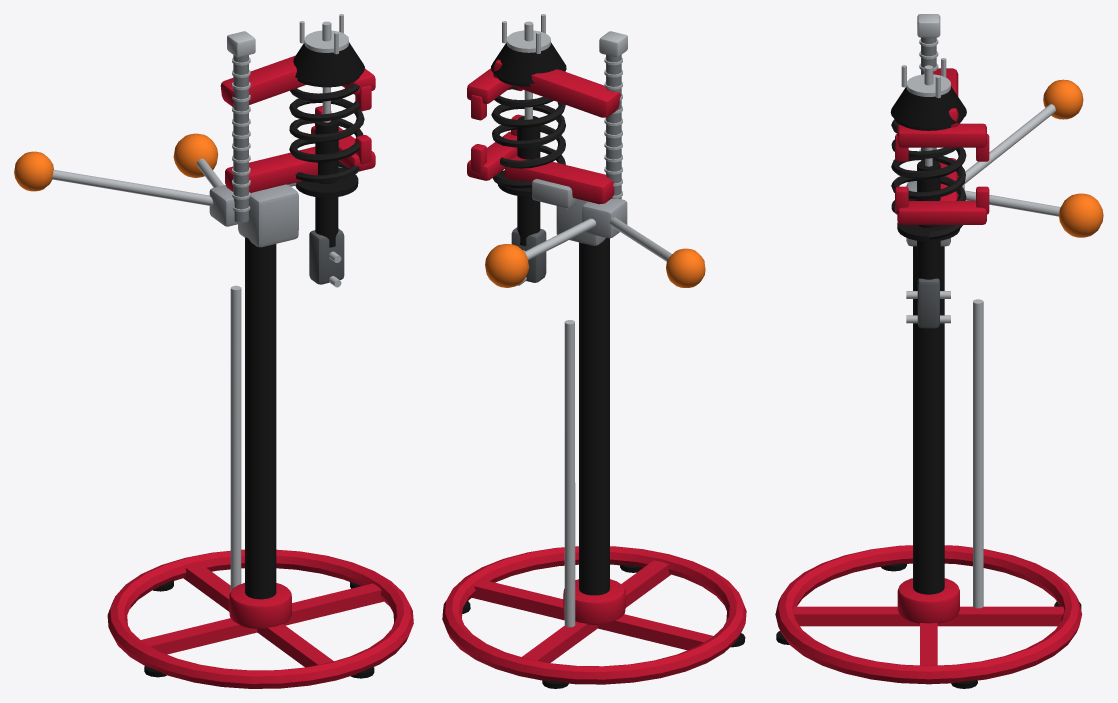
The model's file is shock-stand.glb.
3 views of the same model, side by side, from view 1: azimuth 30°, elevation 25°; view 2: azimuth 150°, elevation 25°; view 3: azimuth 270°, elevation 25° (orthographic).
Parts seen in each view (by area): view 1: Body; view 2: Body; view 3: Body.
Part boxes in pixels (box(x1,y1,x2,y2)): Body: box(14, 14, 413, 688); Body: box(442, 14, 746, 688); Body: box(775, 14, 1103, 688).
Size of the model in its own units: 0.7971 by 1.47 by 0.7317.
